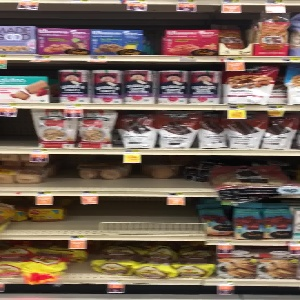void: (66, 193, 206, 238), (48, 153, 215, 190), (1, 109, 32, 151)
